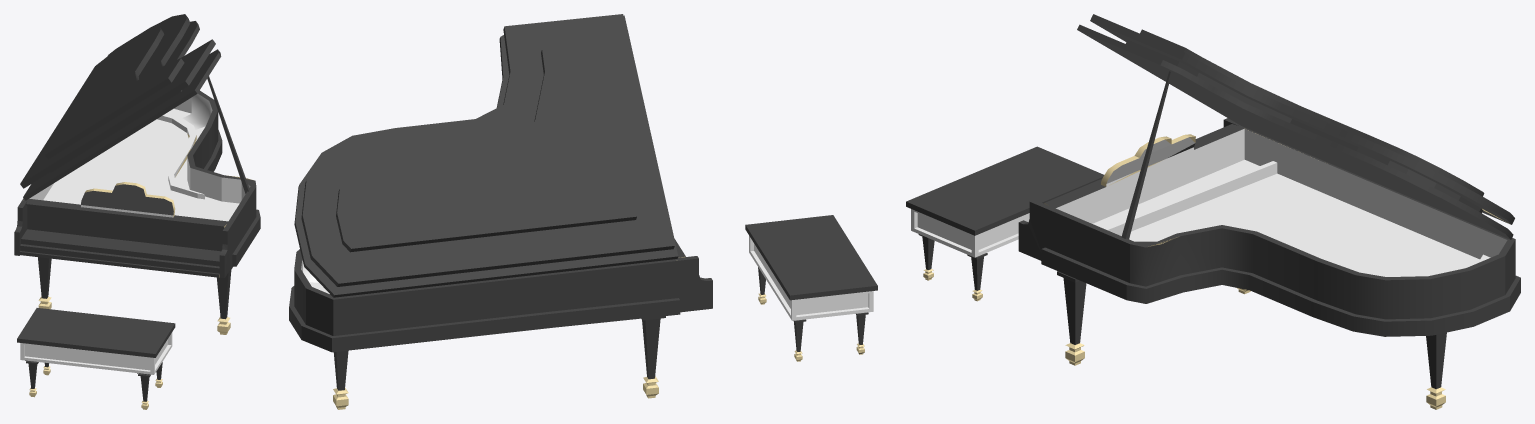
File: piano.glb
The picture shows the model from 3 angles, left to right: view 1: azimuth 30°, elevation 25°; view 2: azimuth 150°, elevation 25°; view 3: azimuth 270°, elevation 25°; orthographic projection. The views are drawn at different scales.
Visible parts, largest first — view 1: Piano_And_Chair, Piano_And_Chair.001; view 2: Piano_And_Chair, Piano_And_Chair.001; view 3: Piano_And_Chair, Piano_And_Chair.001.
Boxes of the visible parts, x1,y1,x2,y2 form: Piano_And_Chair: (14,14,260,334); Piano_And_Chair.001: (17,308,175,409); Piano_And_Chair: (289,14,712,409); Piano_And_Chair.001: (745,215,877,361); Piano_And_Chair: (1018,14,1520,409); Piano_And_Chair.001: (906,146,1103,301).
Bounding box in the file's own units: 33.84 × 24.7 × 41.51.
